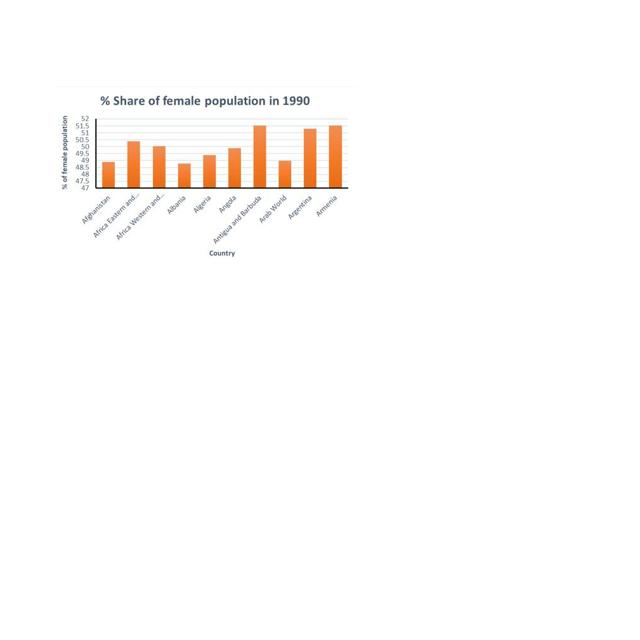Graph: (54, 86, 357, 267)
